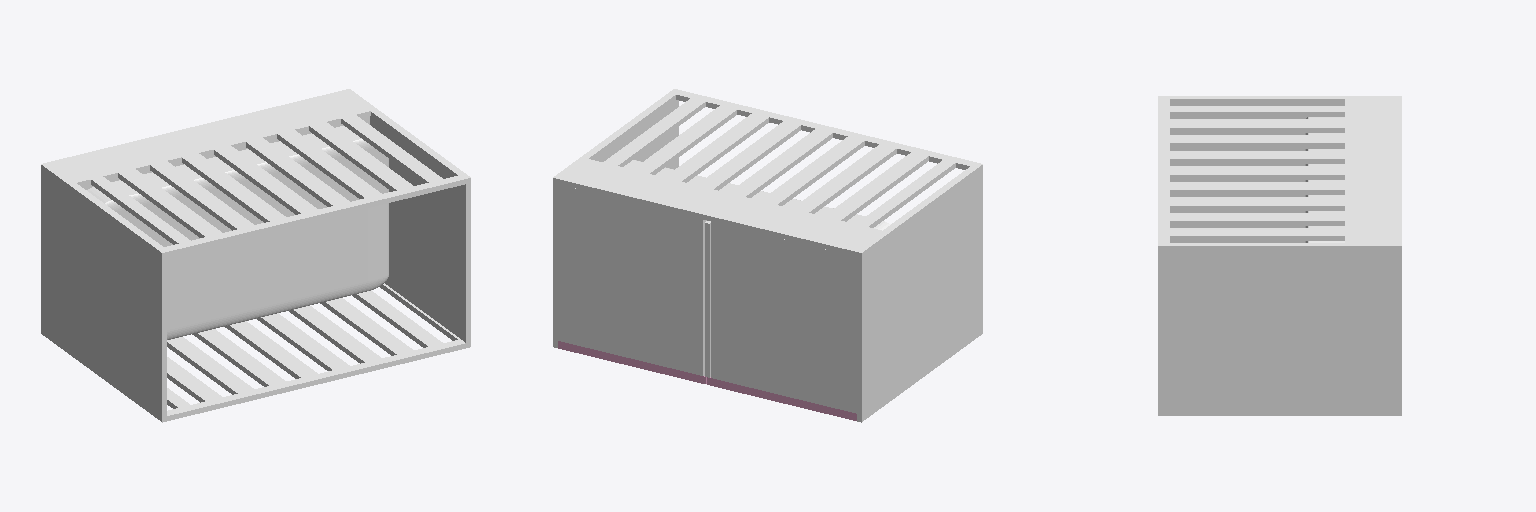
Rendered from FritidsPink.obj.
3 renders of one model, left to right at view 1: azimuth 30°, elevation 25°; view 2: azimuth 150°, elevation 25°; view 3: azimuth 270°, elevation 25°, orthographic.
Visible parts, largest first — view 1: obj_0; view 2: obj_0; view 3: obj_0.
Part boxes in pixels (x1,y1,x2,y2): obj_0: (41,89,470,422); obj_0: (553,89,982,422); obj_0: (1158,96,1401,415).
Bounding box in the file's own units: 126 × 66.3 × 86.